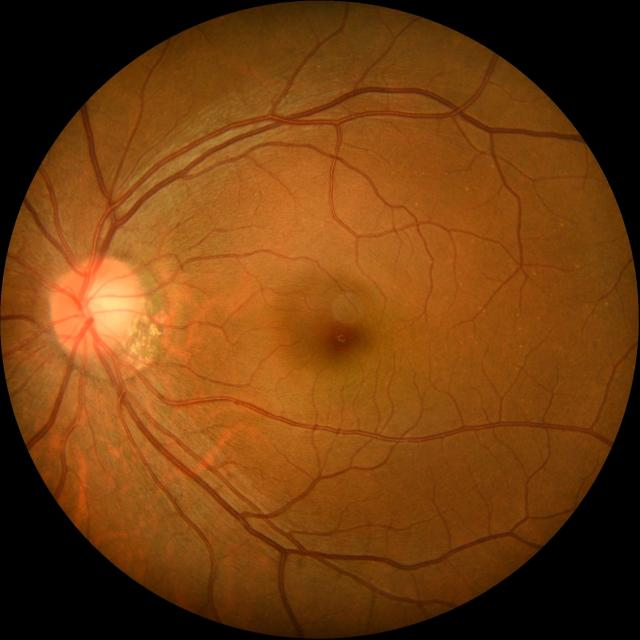OC: (85, 286, 124, 324)
OD: (50, 255, 140, 355)
